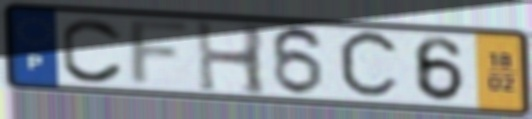6: (269, 24, 332, 99), (410, 34, 469, 105)
C: (335, 27, 404, 103), (59, 15, 127, 86)
F: (126, 17, 197, 89)
H: (193, 17, 271, 98)
